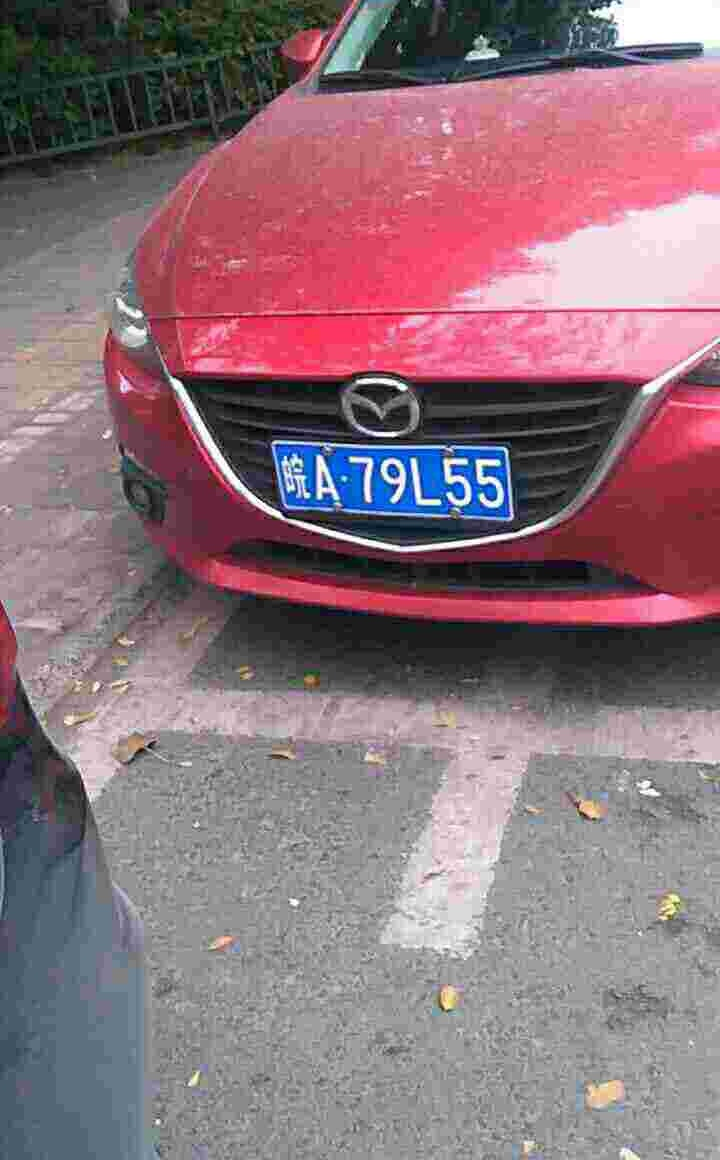license_plate: (266, 442, 509, 519)
